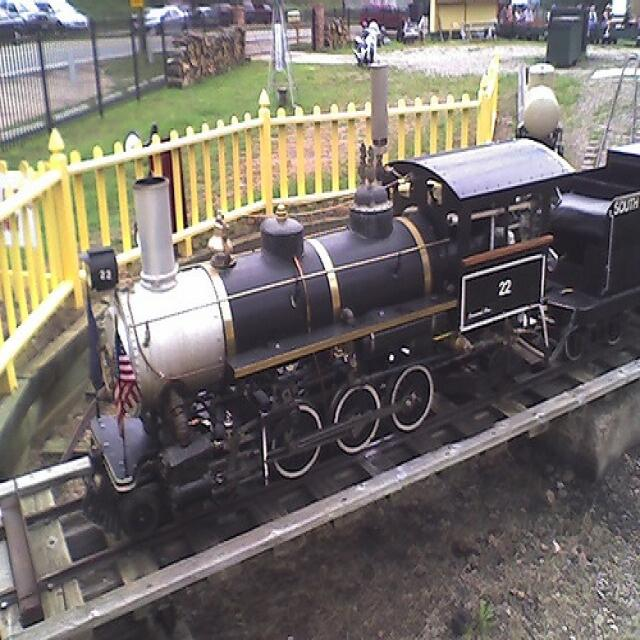car: (1, 0, 50, 34), (41, 0, 89, 32)
train: (68, 113, 639, 541)
